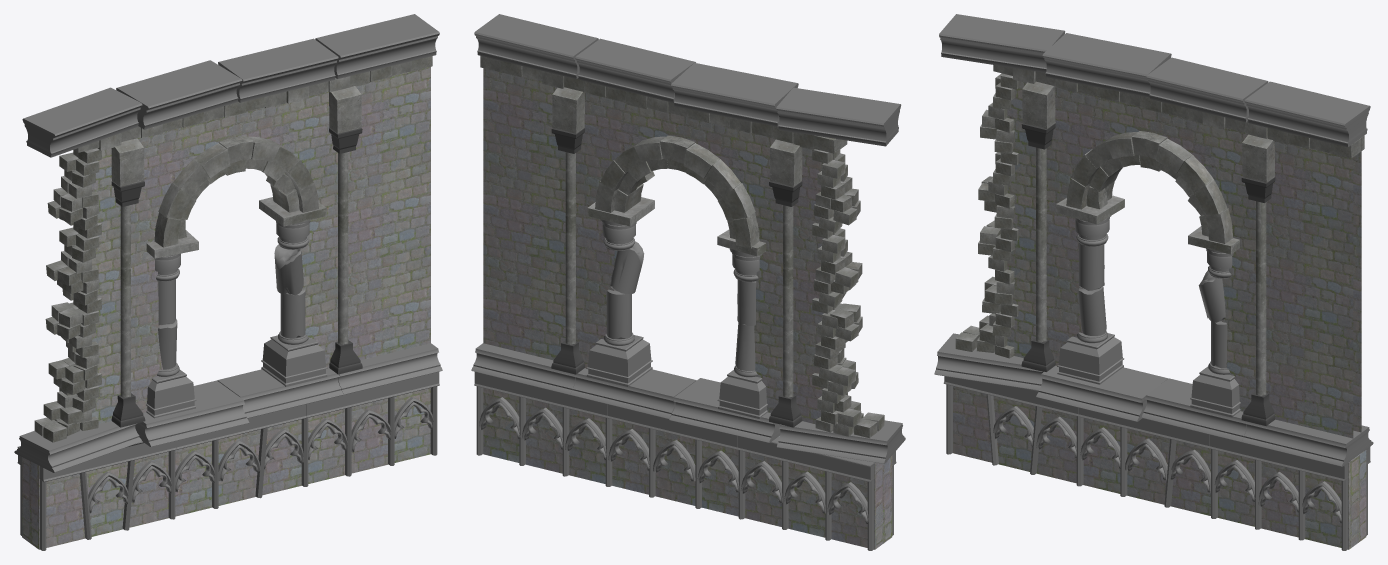
File: SM_wall_modular_02.fbx
3 views of the same model, side by side, from view 1: azimuth 30°, elevation 25°; view 2: azimuth 150°, elevation 25°; view 3: azimuth 330°, elevation 25° (orthographic).
Visible parts, largest first — view 1: DarkFantasyObject79; view 2: DarkFantasyObject79; view 3: DarkFantasyObject79.
Boxes of the visible parts, x1,y1,x2,y2 form: DarkFantasyObject79: [14, 14, 442, 550]; DarkFantasyObject79: [471, 14, 905, 550]; DarkFantasyObject79: [934, 14, 1373, 550].
Size of the model in its own units: 402 by 402 by 70.54.
